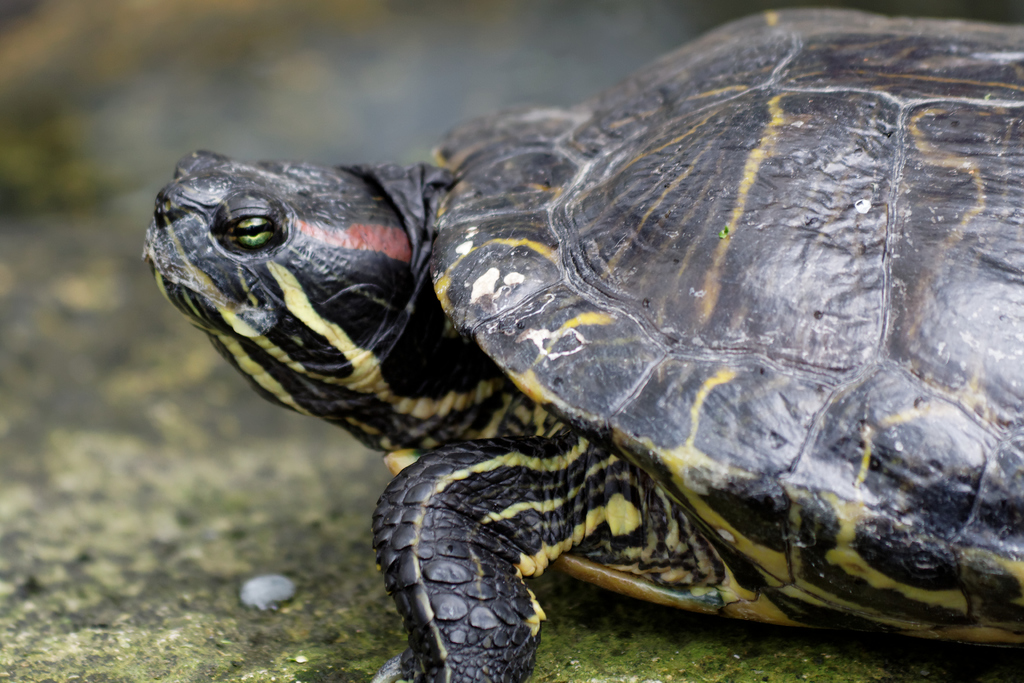Sea turtles: (140, 6, 1023, 683)
